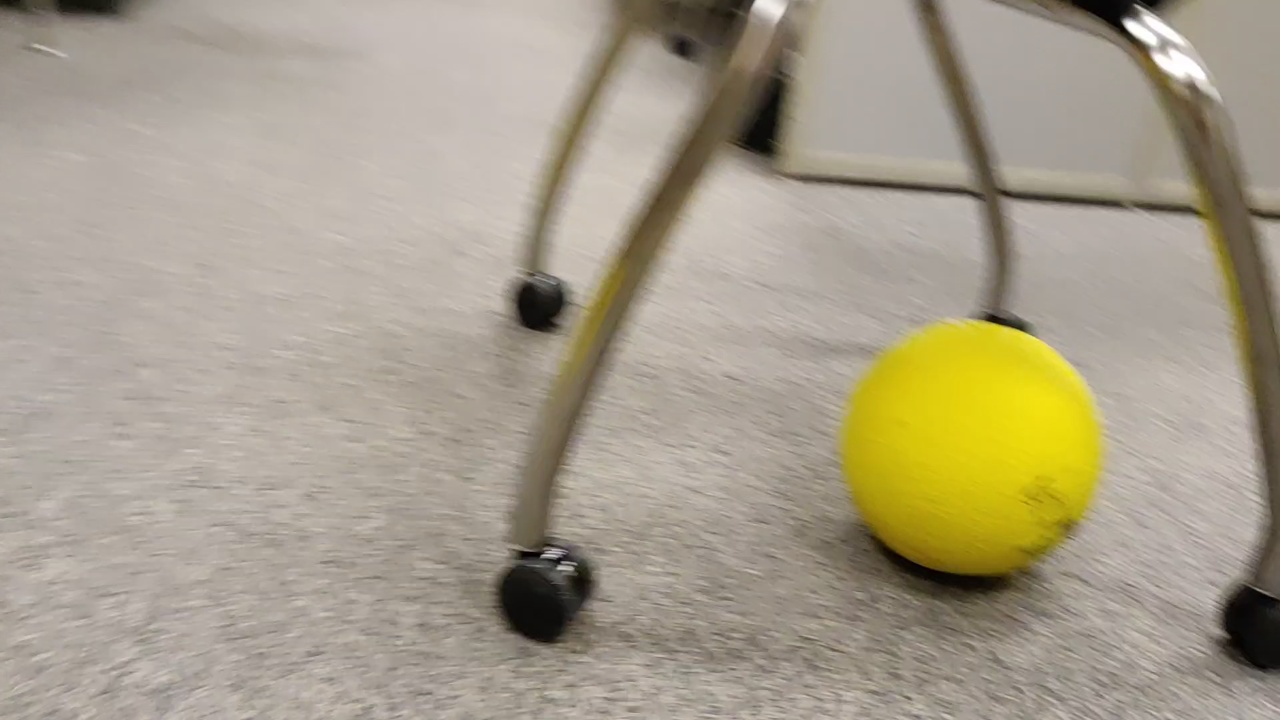Ball: (841, 317, 1119, 595)
